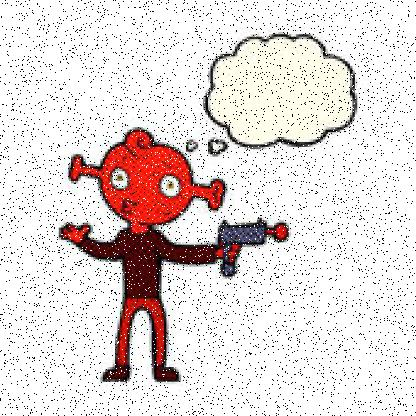pistol: (218, 218, 274, 277)
